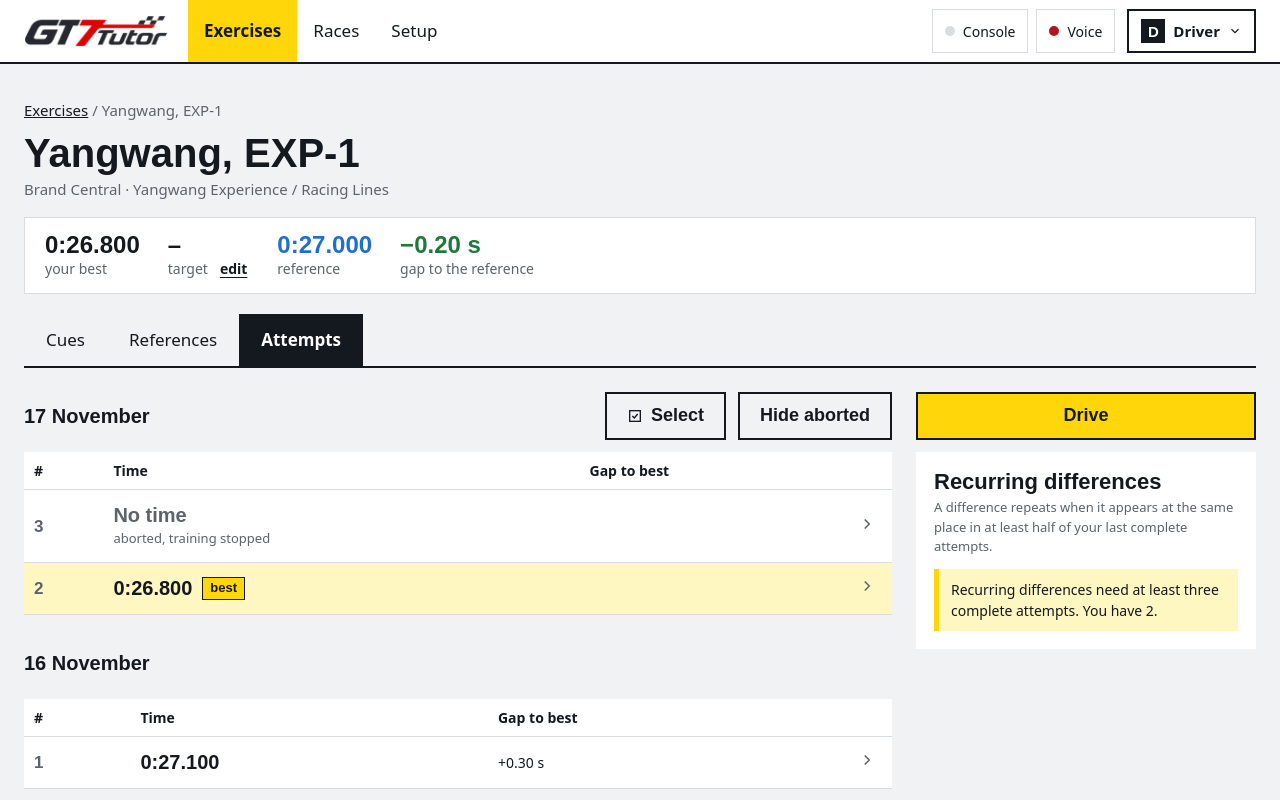
Test: drive button › drive_arms_and_opens_the_stage
The image size is (1280, 800).
Step 1. Click the button "Drive" → (1086, 416), box [916,392,1256,440]
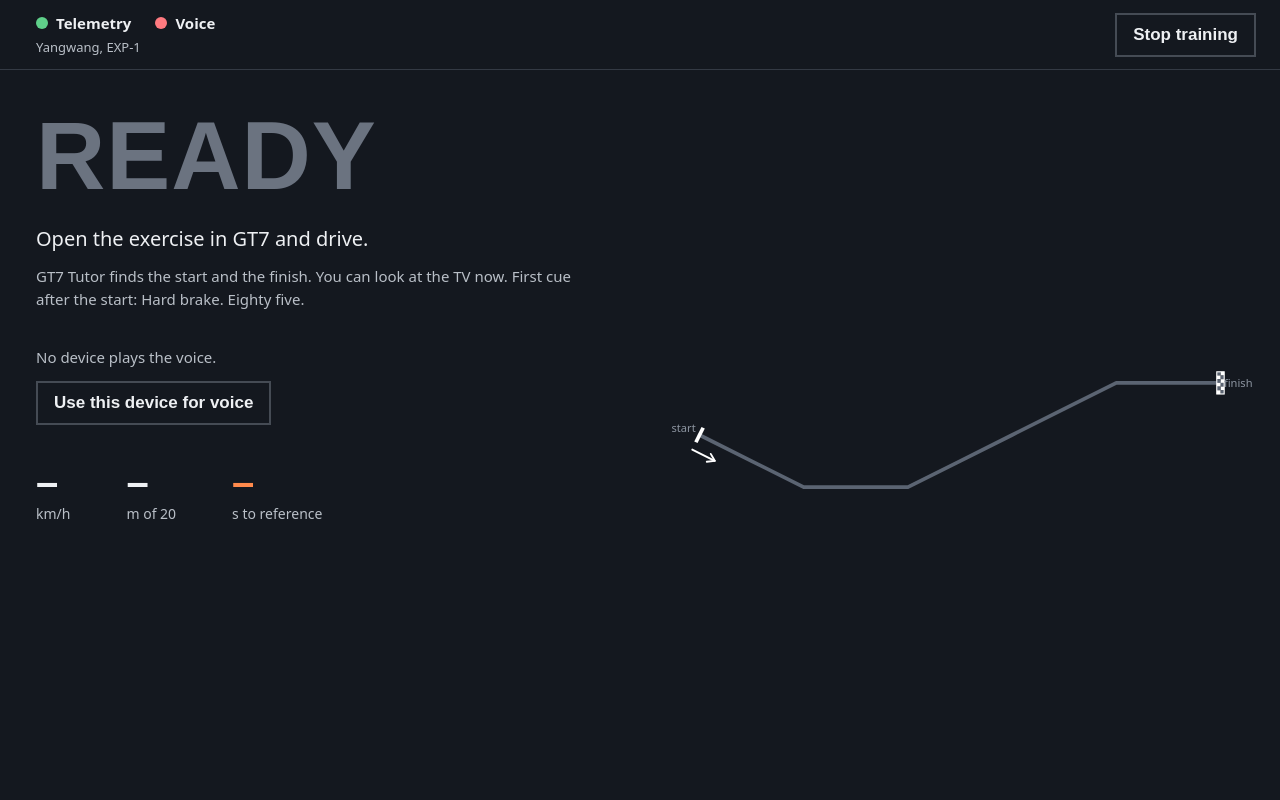
Now the button "Stop training" is shown, box [1115,12,1256,56]
Now the message with class "cue" reads "READY", box [36,102,377,209]
